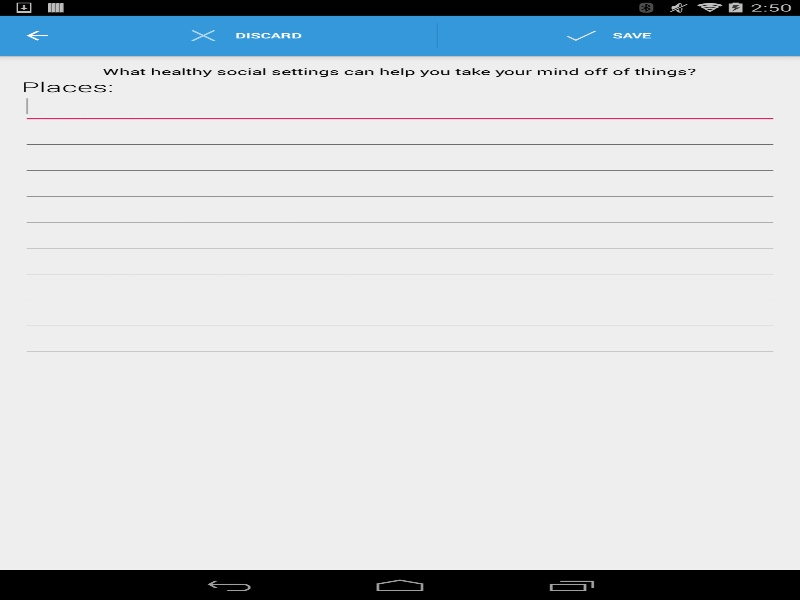Button: (0, 18, 74, 53)
Input: (21, 95, 778, 121), (21, 121, 778, 147), (21, 147, 778, 173), (21, 173, 778, 199), (21, 199, 778, 225), (21, 225, 778, 251), (21, 251, 778, 277), (21, 277, 778, 303), (21, 303, 778, 329), (21, 329, 778, 355)
